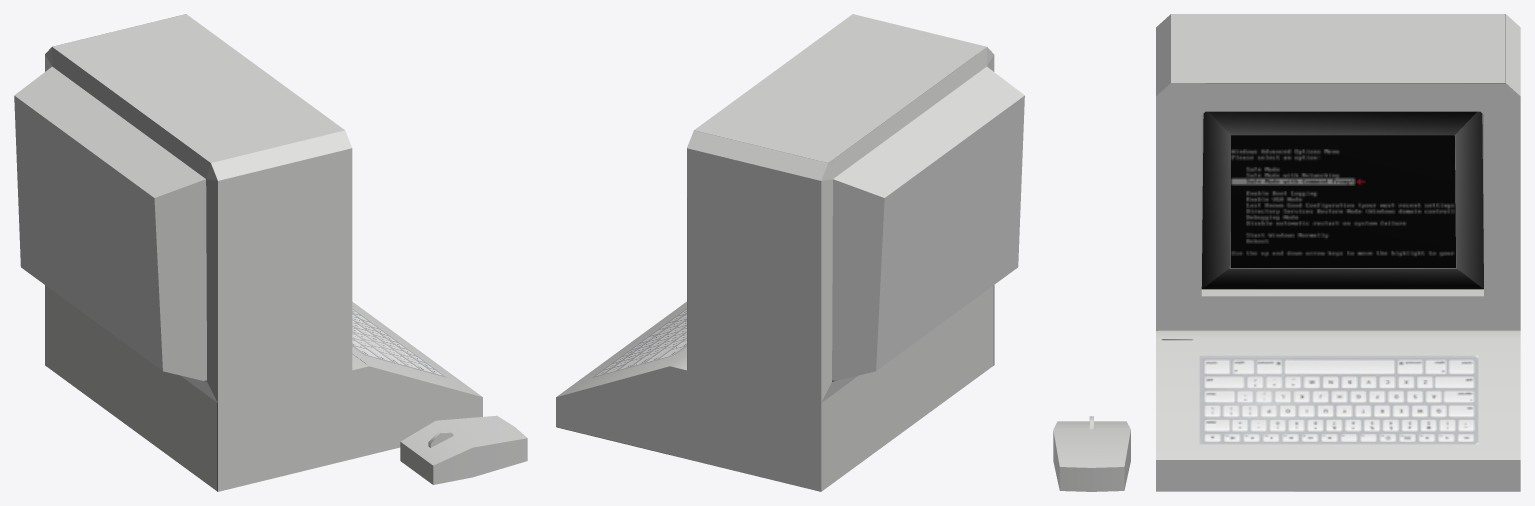
Rendered from computer.fbx.
3 renders of one model, left to right at view 1: azimuth 30°, elevation 25°; view 2: azimuth 150°, elevation 25°; view 3: azimuth 270°, elevation 25°, orthographic. The views are drawn at different scales.
Parts seen in each view (by area): view 1: Box002; view 2: Box002; view 3: Box002.
Boxes of the visible parts, x1,y1,x2,y2 form: Box002: (14,14,527,491); Box002: (556,14,1024,491); Box002: (1053,14,1520,491).
Bounding box in the file's own units: 1.13 × 1.11 × 1.38.
